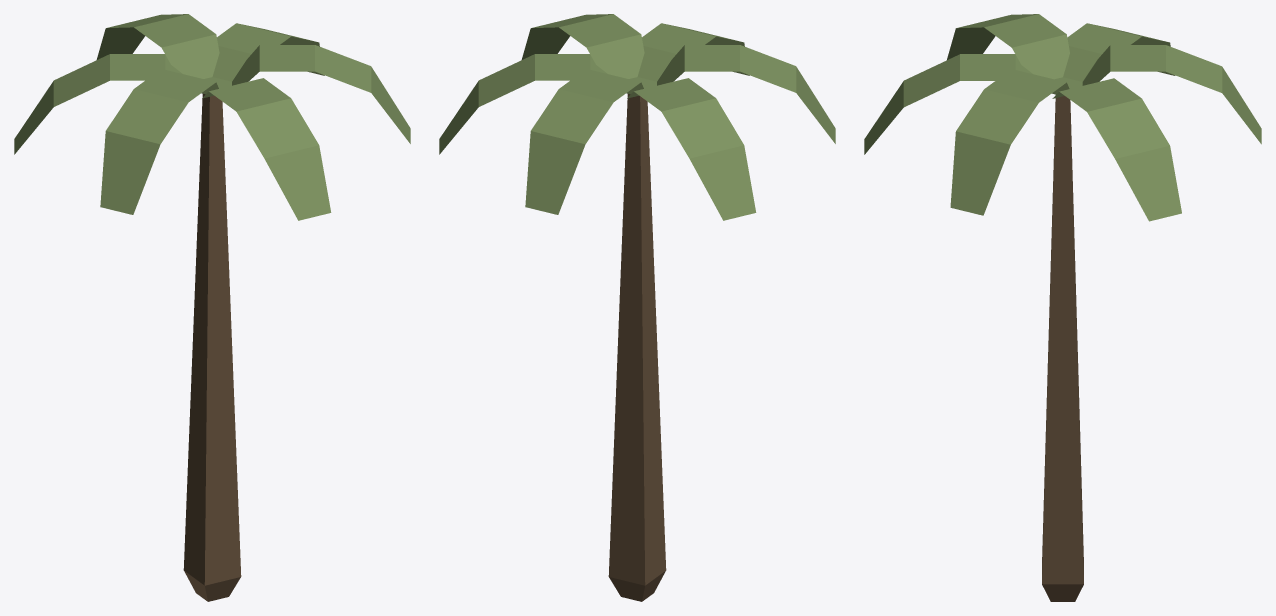
Rendered from palm.glb.
3 views of the same model, side by side, from view 1: azimuth 30°, elevation 25°; view 2: azimuth 150°, elevation 25°; view 3: azimuth 270°, elevation 25° (orthographic).
Visible parts, largest first — view 1: Palm; view 2: Palm; view 3: Palm.
Boxes of the visible parts, x1,y1,x2,y2 form: Palm: (14, 14, 410, 601); Palm: (439, 14, 835, 601); Palm: (864, 14, 1261, 601).
Size of the model in its own units: 3.09 by 5 by 3.34.
